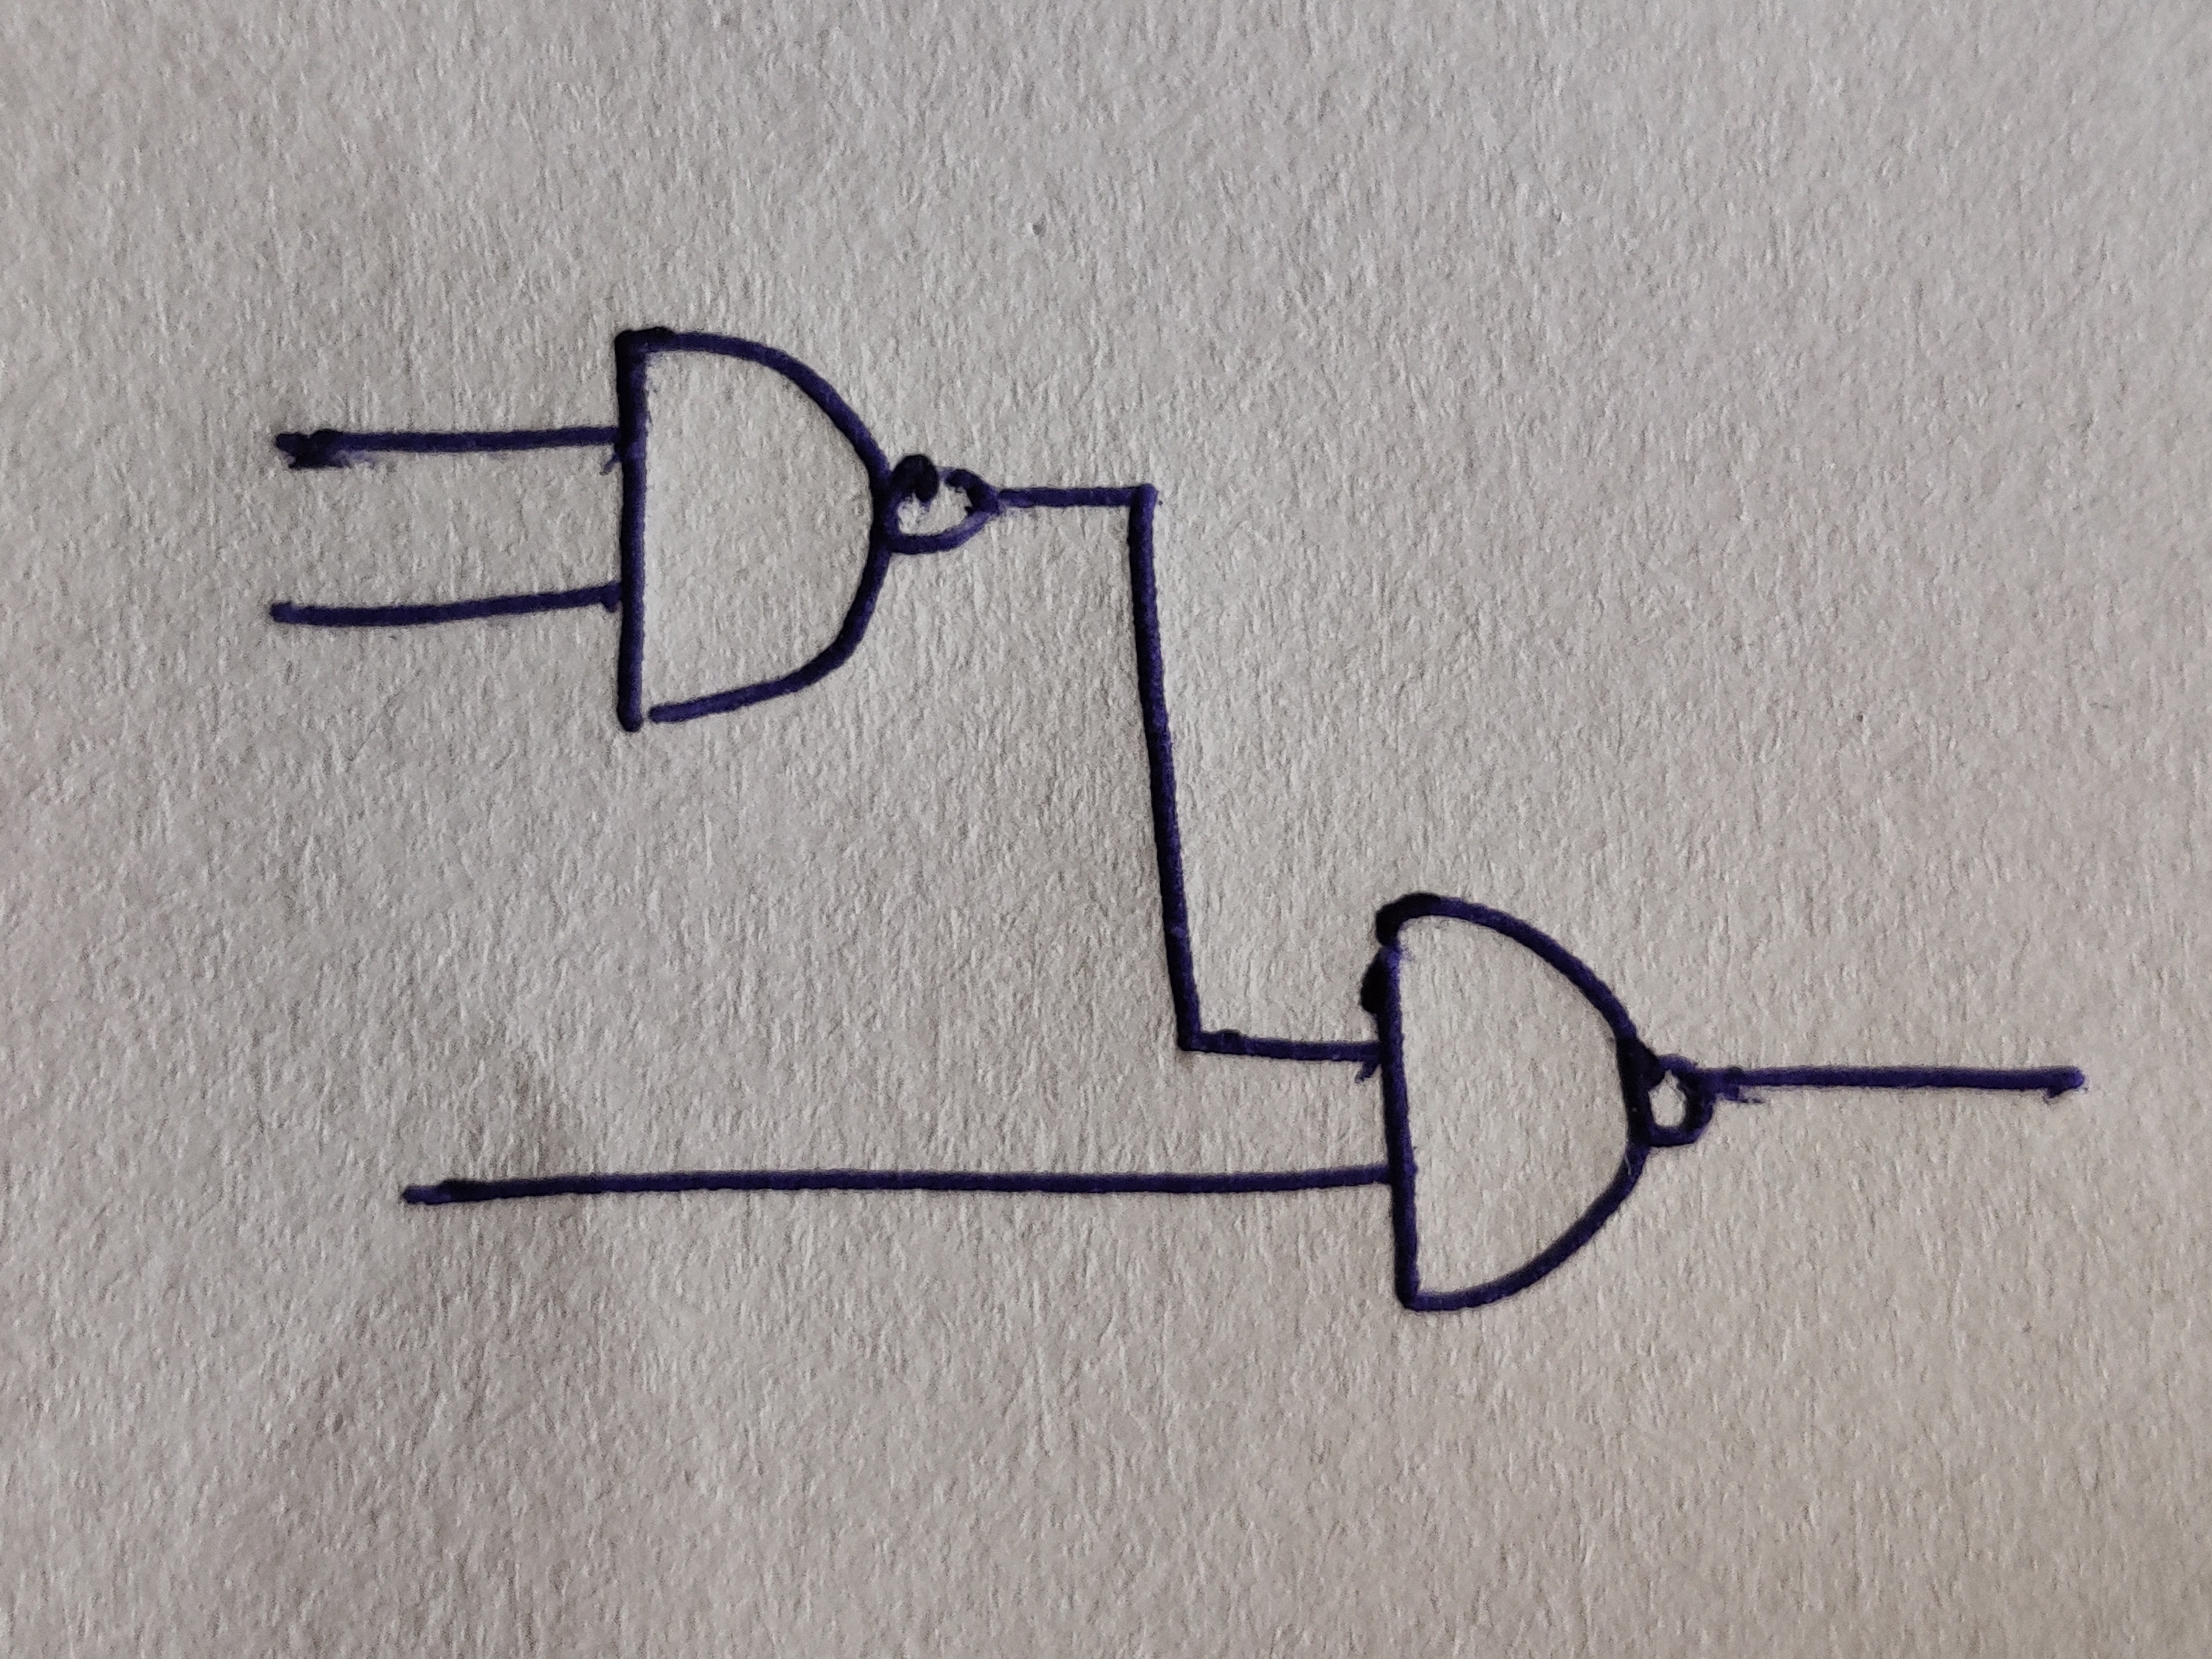and: (1357, 894, 1649, 1312), (613, 326, 892, 730)
not: (887, 453, 998, 556), (1644, 1039, 1714, 1148)
